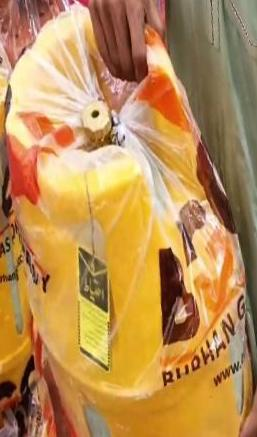cylinder: (1, 1, 257, 437)
